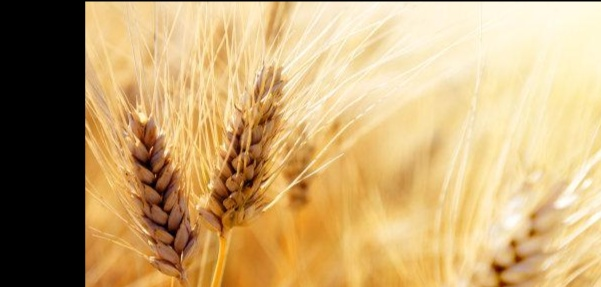wheat: (208, 5, 317, 256), (104, 73, 201, 274)
